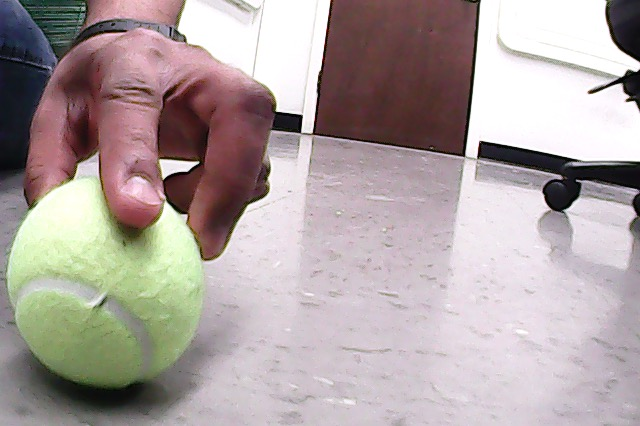ball: (8, 179, 203, 389)
